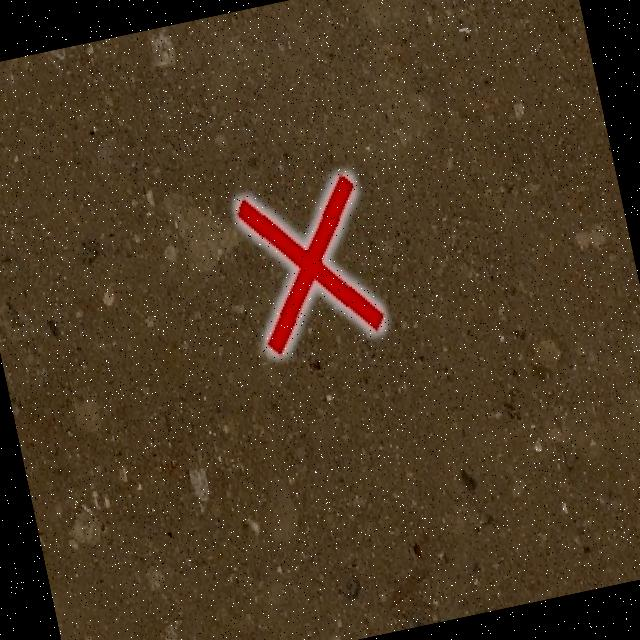x_marker: (233, 173, 384, 354)
